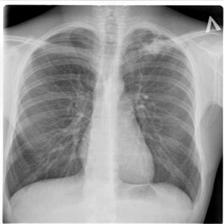tuberculosis: (6, 19, 205, 211)
